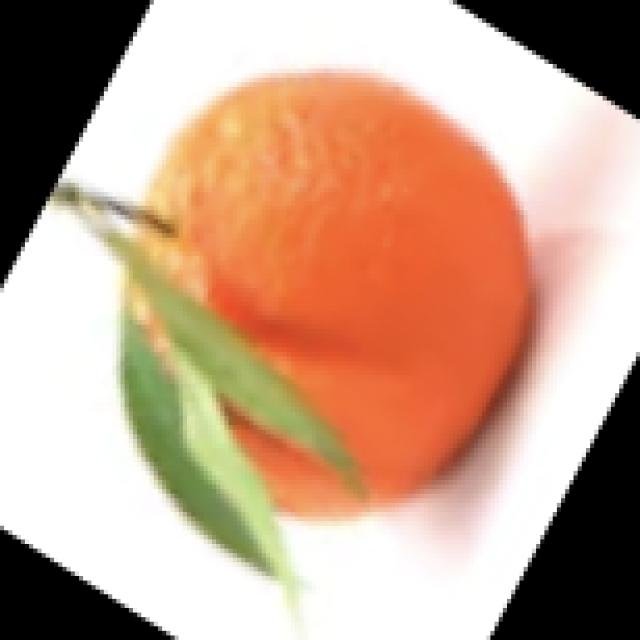fresh: (45, 46, 552, 602)
